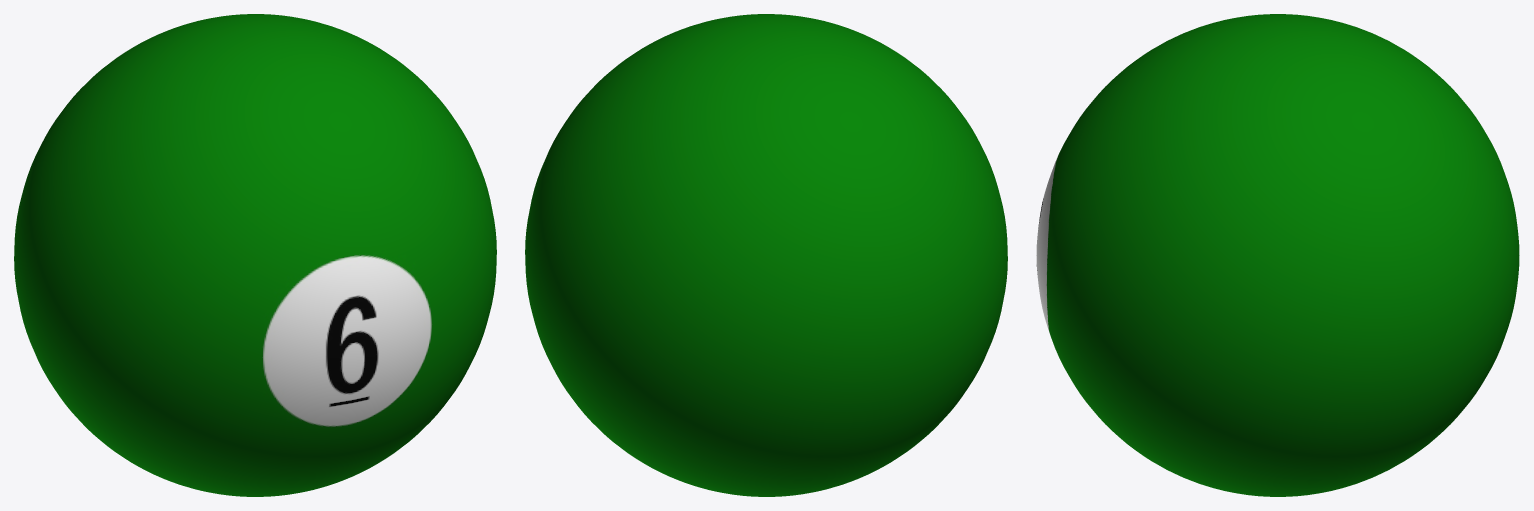
File: Ball6.obj
3 renders of one model, left to right at view 1: azimuth 30°, elevation 25°; view 2: azimuth 150°, elevation 25°; view 3: azimuth 270°, elevation 25°, orthographic.
Parts seen in each view (by area): view 1: Sphere; view 2: Sphere; view 3: Sphere.
Part boxes in pixels (bbox=[...]): Sphere: bbox=[14, 14, 496, 496]; Sphere: bbox=[525, 14, 1007, 496]; Sphere: bbox=[1036, 14, 1519, 496].
Bounding box in the file's own units: 2 × 2 × 2.
Materials: 1 (1 with a texture image).
